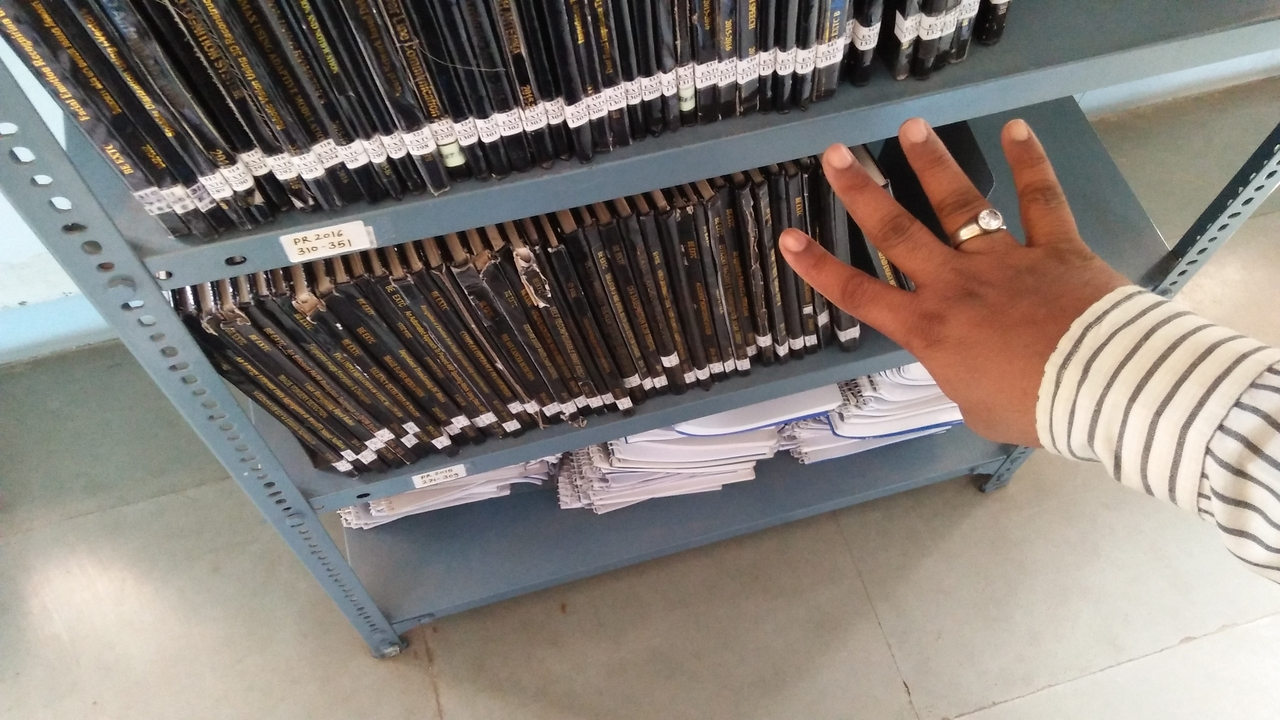fingertip: (806, 126, 878, 184), (994, 106, 1054, 156), (766, 218, 826, 268), (890, 100, 952, 148)
